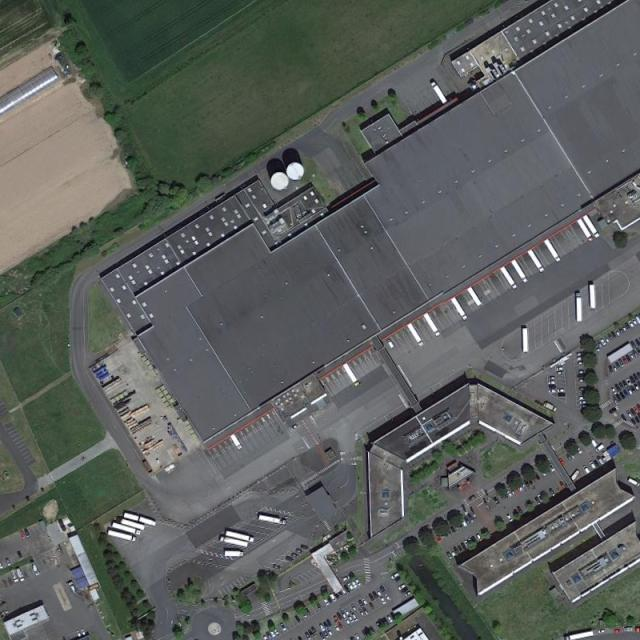vehicle: (582, 214, 601, 238), (528, 249, 546, 273), (423, 313, 441, 337), (124, 513, 157, 526), (544, 239, 562, 262), (511, 260, 529, 283), (500, 266, 518, 289), (407, 324, 425, 347), (343, 364, 361, 387), (430, 82, 448, 105), (577, 218, 594, 242), (113, 522, 142, 536), (226, 530, 256, 543), (451, 298, 468, 320), (108, 530, 138, 542), (467, 286, 482, 307), (121, 518, 146, 530), (258, 515, 287, 525), (565, 630, 594, 640), (221, 537, 249, 547), (230, 433, 242, 450), (542, 402, 558, 414), (30, 562, 42, 577), (576, 293, 582, 322), (67, 582, 78, 597), (570, 469, 582, 482), (522, 328, 528, 353), (10, 568, 20, 583), (225, 550, 245, 557), (16, 568, 26, 582), (627, 478, 640, 488), (58, 518, 67, 532), (590, 285, 595, 310), (595, 444, 606, 454), (596, 456, 606, 466), (575, 445, 584, 455), (493, 495, 501, 506), (390, 572, 401, 580), (446, 550, 454, 561), (582, 465, 591, 474), (590, 438, 598, 448), (548, 463, 556, 473), (549, 488, 557, 498), (382, 617, 390, 627), (362, 607, 370, 617), (397, 584, 407, 592), (310, 626, 318, 636), (387, 614, 394, 625), (351, 603, 358, 614), (387, 339, 394, 350), (534, 473, 542, 482), (534, 497, 542, 506), (467, 514, 475, 523), (330, 594, 338, 603), (302, 611, 310, 620), (294, 615, 302, 624), (350, 580, 358, 589), (380, 597, 388, 606), (358, 600, 366, 609), (334, 625, 342, 634), (630, 408, 638, 417), (626, 410, 634, 419), (622, 389, 630, 398), (614, 329, 622, 338), (291, 552, 301, 559), (280, 623, 287, 633), (24, 528, 31, 538), (385, 594, 392, 604), (341, 610, 348, 620), (619, 391, 626, 401), (608, 407, 618, 414), (622, 379, 629, 389), (272, 564, 283, 570), (468, 538, 474, 549), (270, 630, 278, 638), (301, 543, 309, 551), (506, 514, 514, 522), (362, 598, 370, 606), (319, 632, 327, 640), (630, 418, 638, 426), (614, 384, 622, 392), (618, 382, 626, 390), (594, 460, 601, 469), (590, 461, 597, 470), (524, 479, 531, 488), (559, 480, 566, 489), (343, 584, 350, 593), (20, 531, 27, 540), (454, 546, 461, 555), (450, 549, 457, 558), (348, 615, 355, 624), (352, 613, 359, 622), (358, 608, 365, 617), (368, 593, 375, 602), (380, 586, 387, 595), (337, 613, 344, 622), (308, 629, 315, 638), (334, 615, 341, 624), (319, 623, 326, 632), (323, 621, 330, 630), (630, 341, 637, 350), (600, 338, 607, 347), (604, 335, 611, 344), (628, 320, 635, 329), (629, 375, 636, 384), (629, 352, 636, 361), (632, 350, 639, 359), (626, 354, 633, 363), (285, 557, 295, 563), (18, 550, 24, 560), (616, 394, 622, 404), (613, 396, 619, 406), (619, 359, 625, 369), (566, 453, 573, 461), (559, 458, 566, 466), (510, 487, 517, 495), (506, 490, 513, 498), (538, 494, 545, 502), (435, 534, 442, 542), (450, 526, 457, 534), (266, 632, 273, 640), (340, 587, 347, 595), (334, 592, 341, 600), (323, 598, 330, 606), (316, 603, 323, 611), (273, 627, 280, 635), (355, 579, 362, 587), (369, 626, 376, 634), (476, 534, 483, 542), (517, 506, 524, 514), (461, 542, 468, 550), (345, 618, 352, 626), (405, 590, 412, 598), (327, 629, 334, 637), (621, 414, 628, 422), (630, 386, 637, 394), (627, 388, 634, 396), (633, 374, 640, 382), (626, 378, 633, 386), (622, 357, 629, 365), (615, 361, 622, 369), (579, 386, 590, 391), (577, 357, 588, 362), (570, 450, 576, 459), (462, 518, 468, 527), (458, 519, 464, 528), (295, 548, 304, 554), (6, 558, 12, 567), (376, 589, 382, 598), (345, 609, 351, 618), (305, 631, 311, 640), (324, 630, 330, 639), (326, 618, 332, 627), (634, 406, 640, 415), (612, 387, 618, 396), (578, 352, 588, 357), (624, 627, 634, 632), (327, 596, 334, 603), (457, 546, 464, 553), (611, 331, 618, 338), (618, 327, 625, 334), (578, 374, 590, 378), (518, 484, 524, 492), (306, 608, 312, 616), (338, 590, 344, 598), (81, 629, 87, 637), (76, 630, 82, 638), (348, 583, 354, 591), (370, 602, 376, 610), (373, 590, 379, 598), (338, 622, 344, 630), (634, 416, 640, 424), (634, 383, 640, 391), (608, 333, 614, 341), (625, 323, 631, 331), (580, 400, 589, 405), (557, 393, 566, 398), (556, 366, 565, 371), (455, 522, 460, 531), (613, 364, 618, 373), (609, 365, 614, 374), (579, 379, 590, 383), (395, 576, 402, 582), (622, 326, 628, 333), (579, 397, 589, 401), (558, 388, 566, 393), (548, 376, 556, 381), (549, 389, 557, 394), (579, 370, 589, 374), (635, 339, 640, 347), (635, 316, 640, 324), (633, 318, 638, 326), (355, 634, 361, 640), (465, 541, 469, 550), (636, 347, 640, 356), (557, 371, 565, 375), (549, 381, 557, 385), (614, 630, 622, 634), (598, 630, 606, 634), (636, 626, 640, 634), (578, 362, 588, 365), (582, 405, 589, 409), (550, 385, 557, 389), (262, 636, 268, 640), (636, 404, 640, 410), (637, 371, 640, 378), (298, 636, 303, 640), (350, 637, 355, 640)
